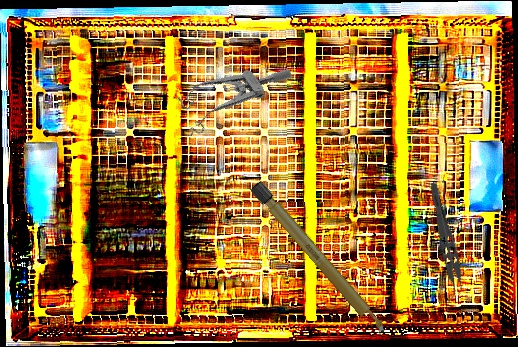Scalpel Handle: (247, 178, 392, 342)
Speculum: (166, 33, 295, 147)
Tissue Forceps: (419, 180, 470, 302)
